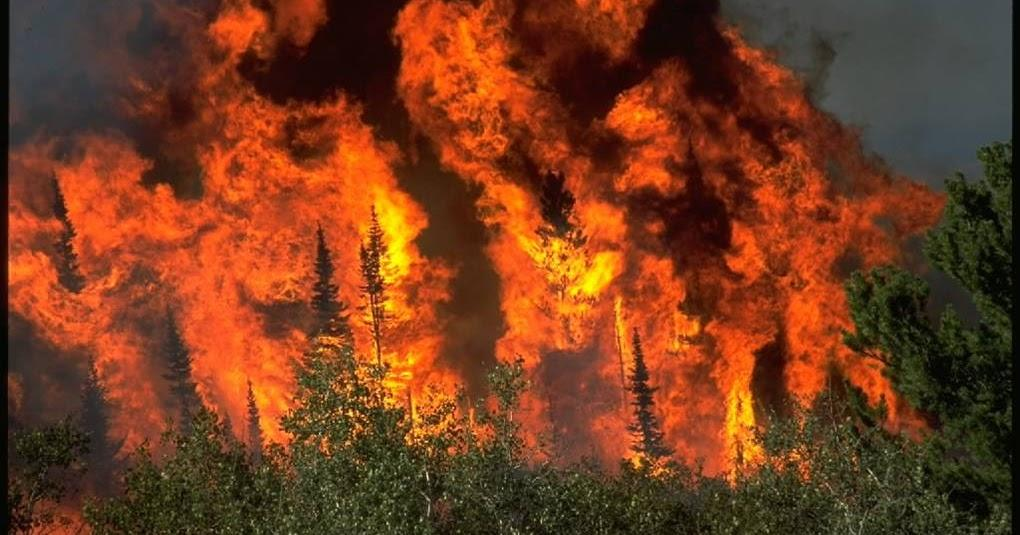fire: (4, 3, 1020, 535), (17, 8, 454, 530), (463, 33, 863, 520)
